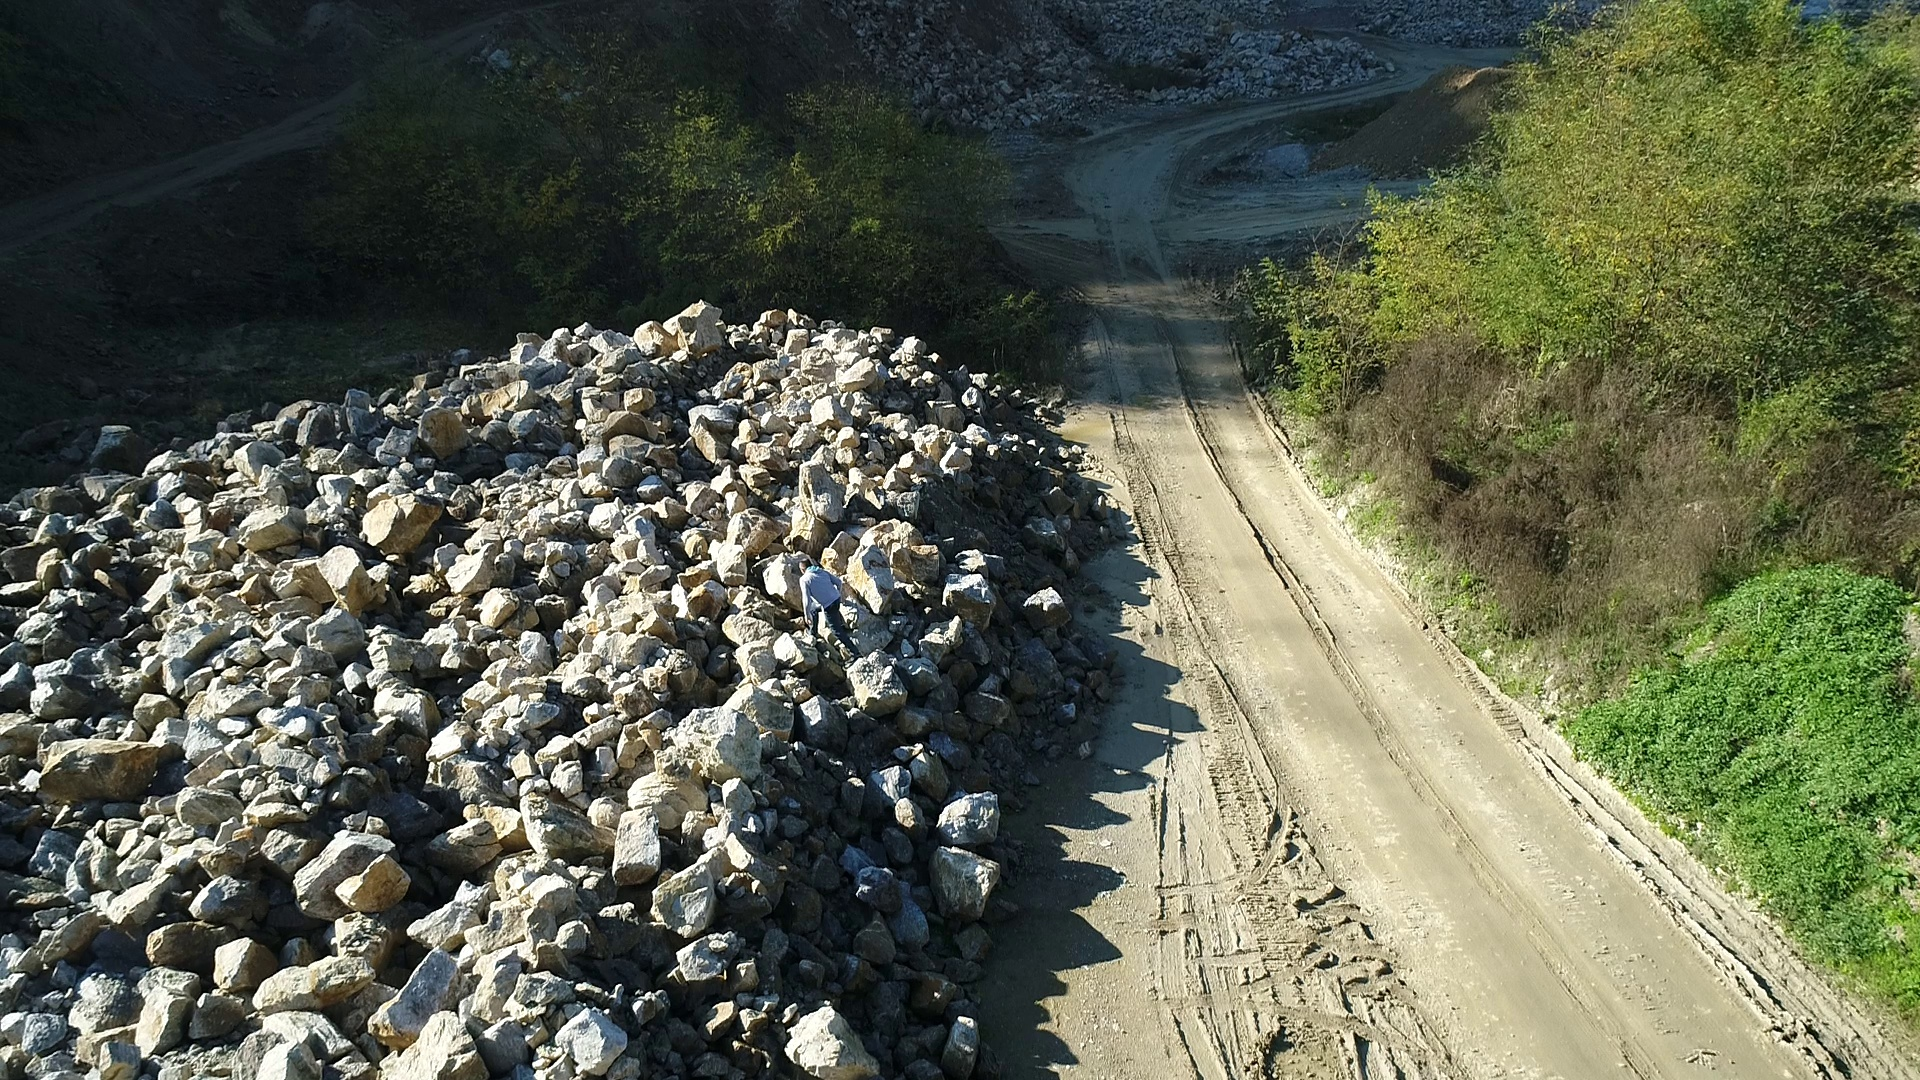person: (797, 556, 863, 659)
